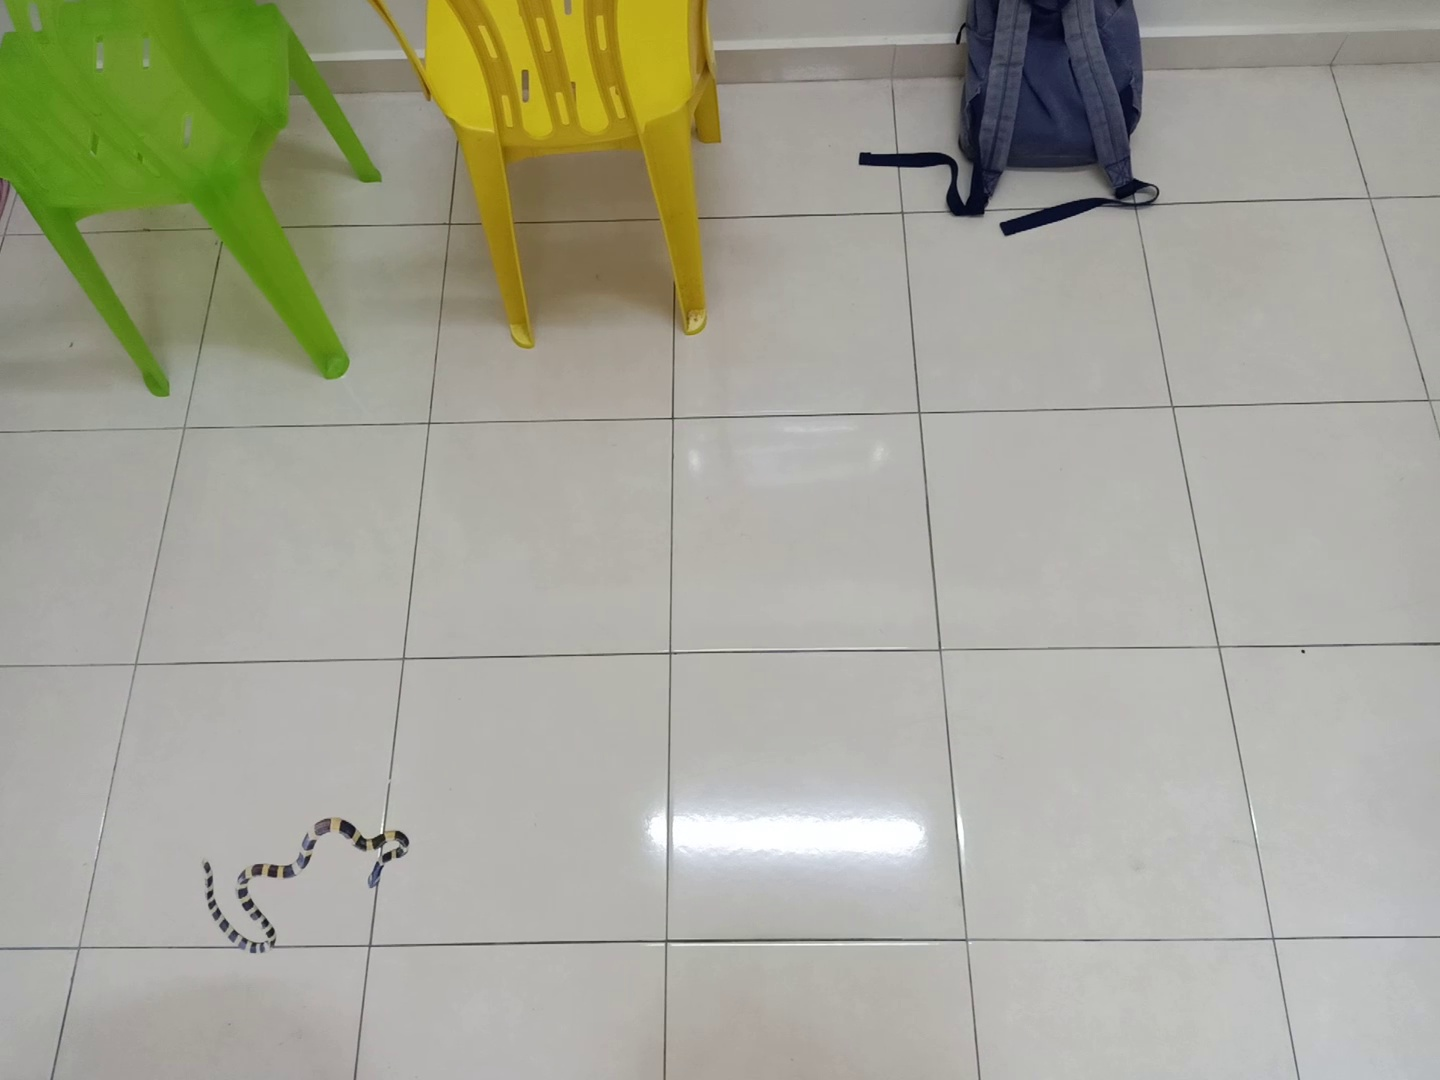snake: (192, 805, 420, 961)
